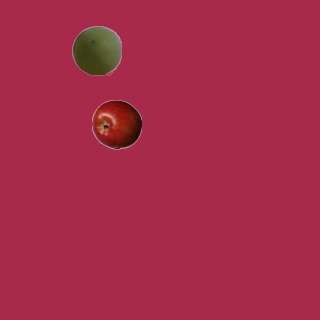Apple Braeburn: (91, 99, 141, 149)
Grape White 4: (71, 25, 121, 75)
